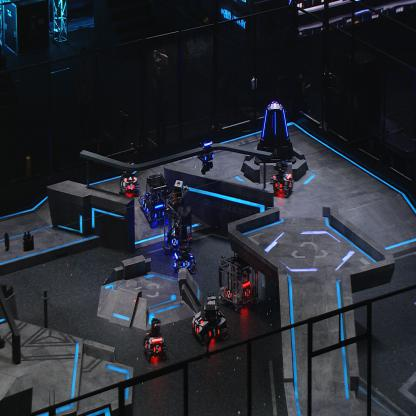car: (218, 248, 258, 314), (190, 291, 228, 346), (162, 186, 193, 252), (138, 171, 171, 226), (142, 316, 166, 362), (171, 234, 196, 276), (269, 161, 293, 197), (119, 159, 140, 197)
